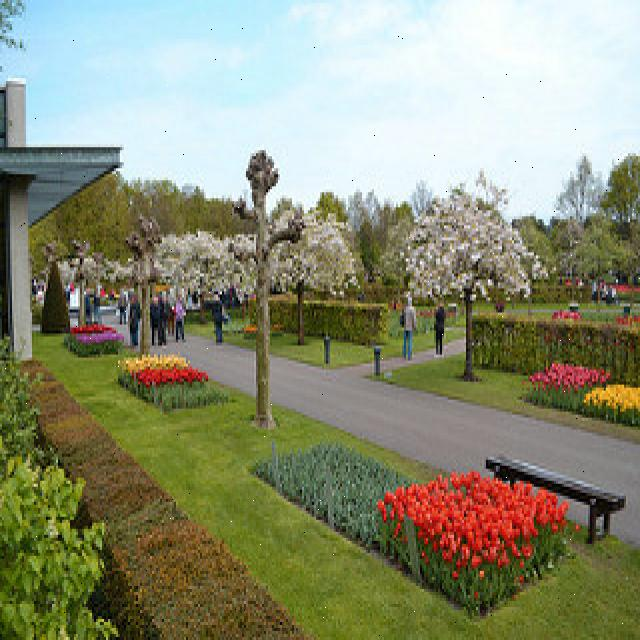Bloomed: (389, 444, 576, 596)
